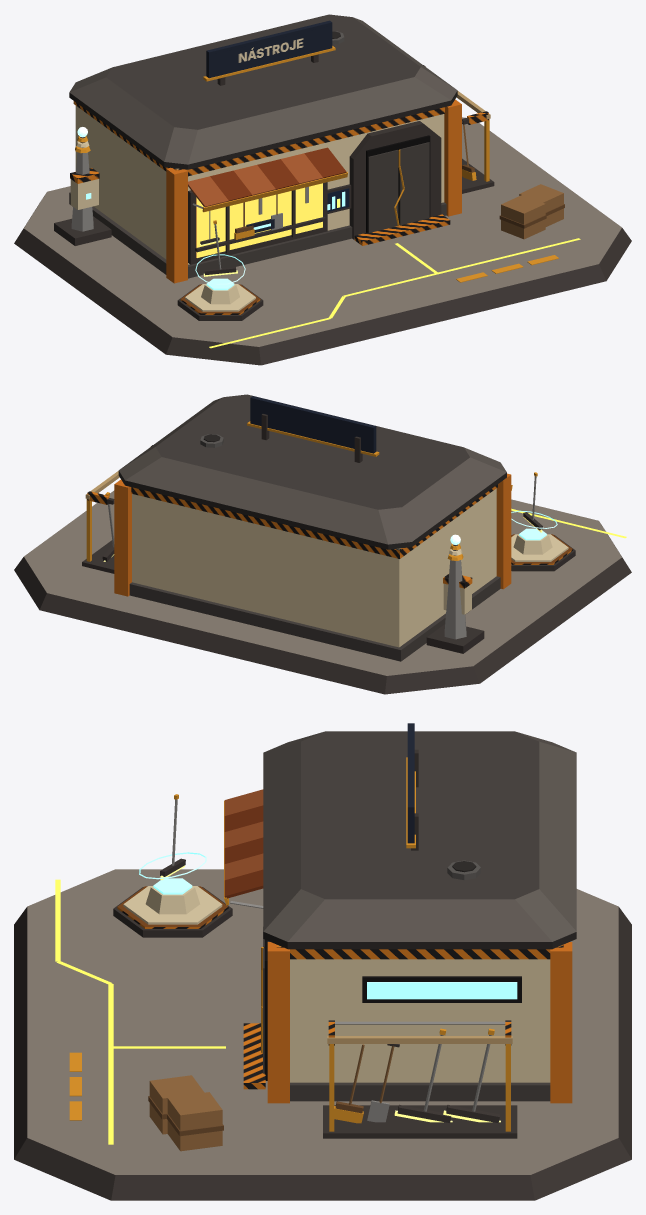
Rendered from budova-obchod-nastroje-maly2.glb.
The picture shows the model from 3 angles, top to bottom: view 1: azimuth 30°, elevation 25°; view 2: azimuth 150°, elevation 25°; view 3: azimuth 270°, elevation 25°; orthographic projection. The views are drawn at different scales.
Parts seen in each view (by area): view 1: budova-obchod-nastroje-maly2; view 2: budova-obchod-nastroje-maly2; view 3: budova-obchod-nastroje-maly2.
Part boxes in pixels (box(x1,y1,x2,y2)): budova-obchod-nastroje-maly2: box(14, 14, 631, 365); budova-obchod-nastroje-maly2: box(14, 394, 631, 694); budova-obchod-nastroje-maly2: box(14, 723, 631, 1200).
Bounding box in the file's own units: 12.75 × 4.91 × 10.5.
27 materials, 2 textured.
